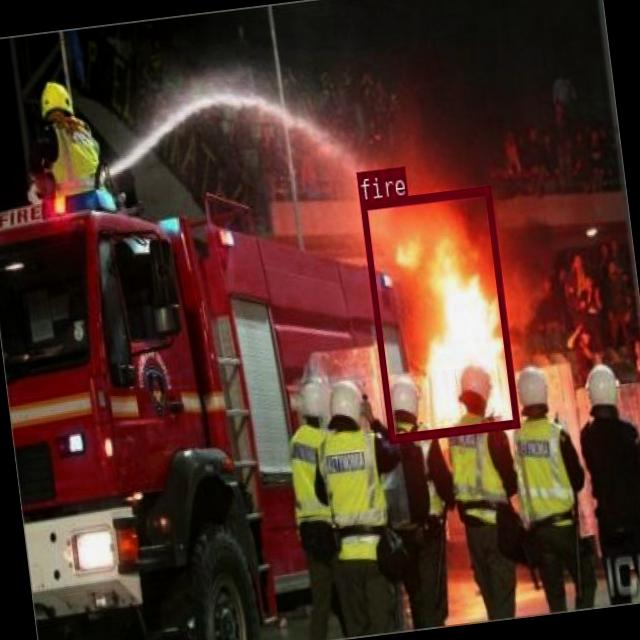fire: (358, 184, 518, 442)
